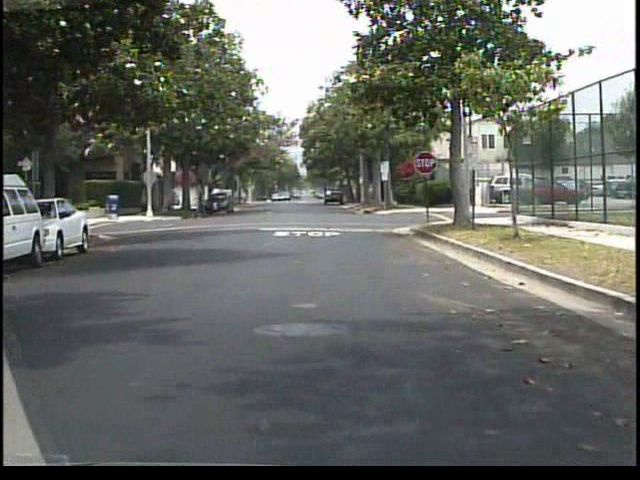person: (194, 178, 218, 220)
